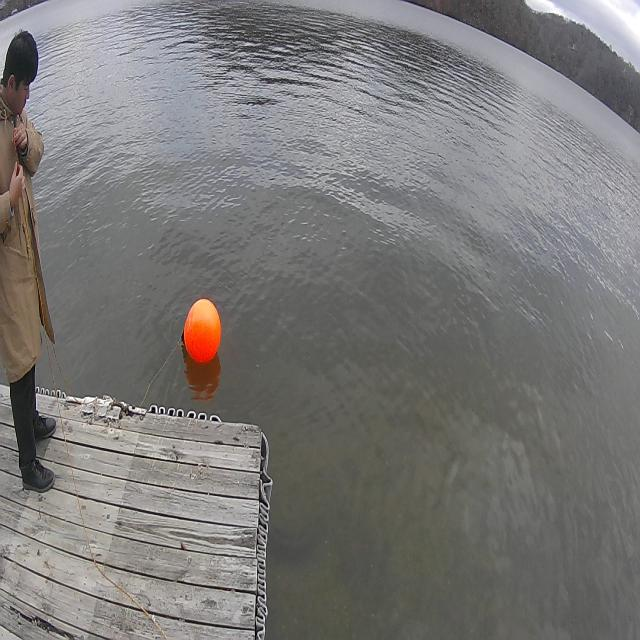Buoy: (182, 295, 222, 368)
